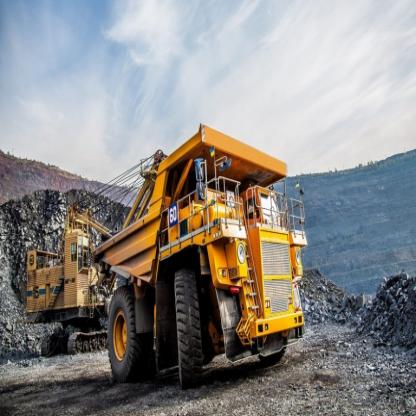dump_truck: (81, 120, 311, 387)
excavator: (24, 169, 160, 365)
